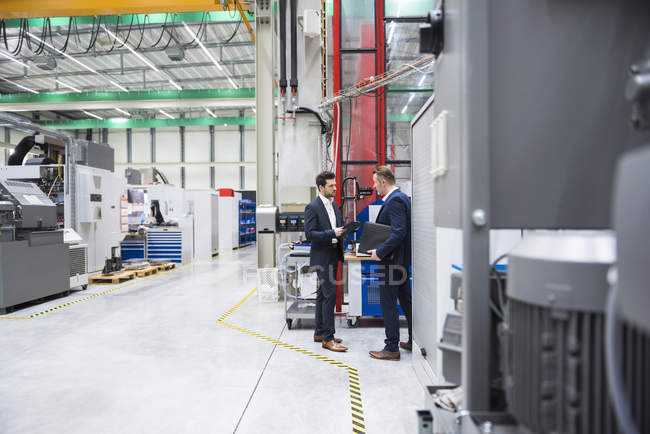person: (367, 169, 411, 361), (304, 172, 347, 352)
